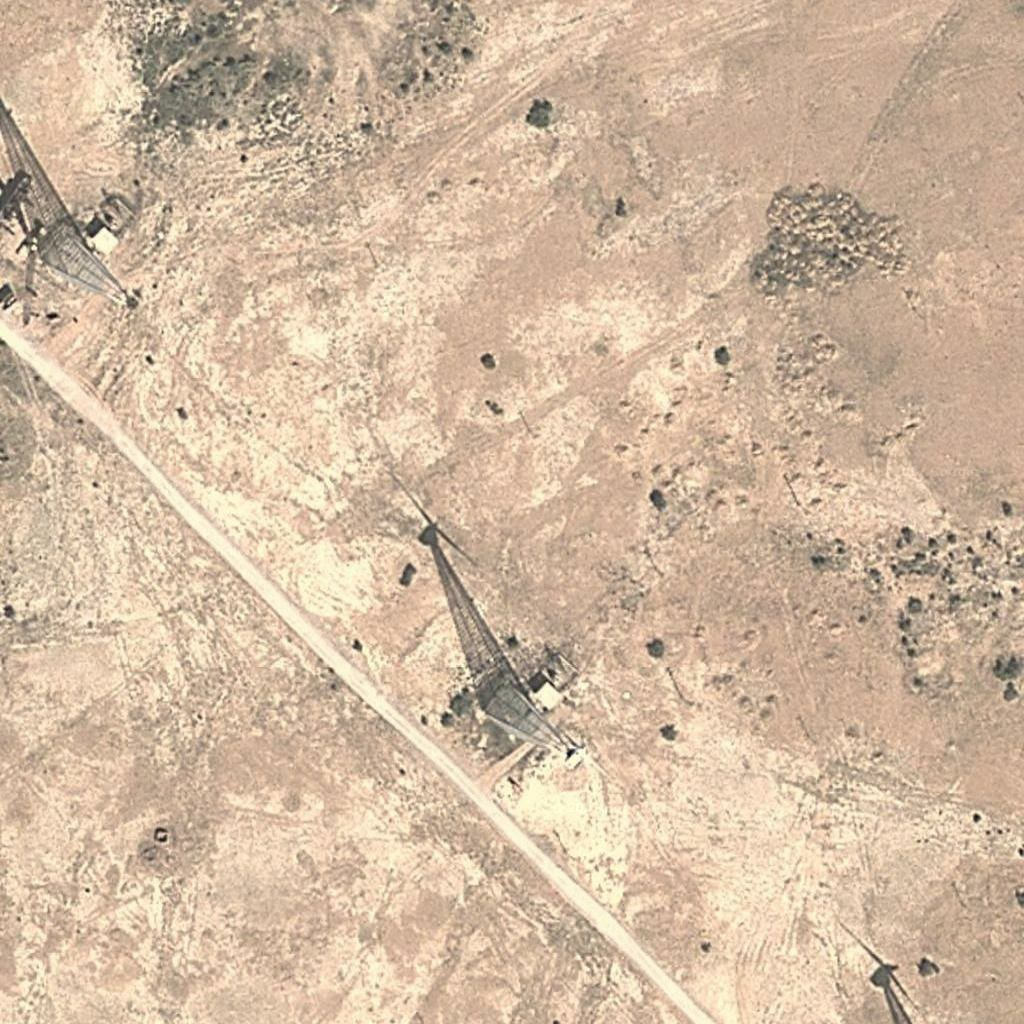Windmill: (380, 448, 552, 715)
